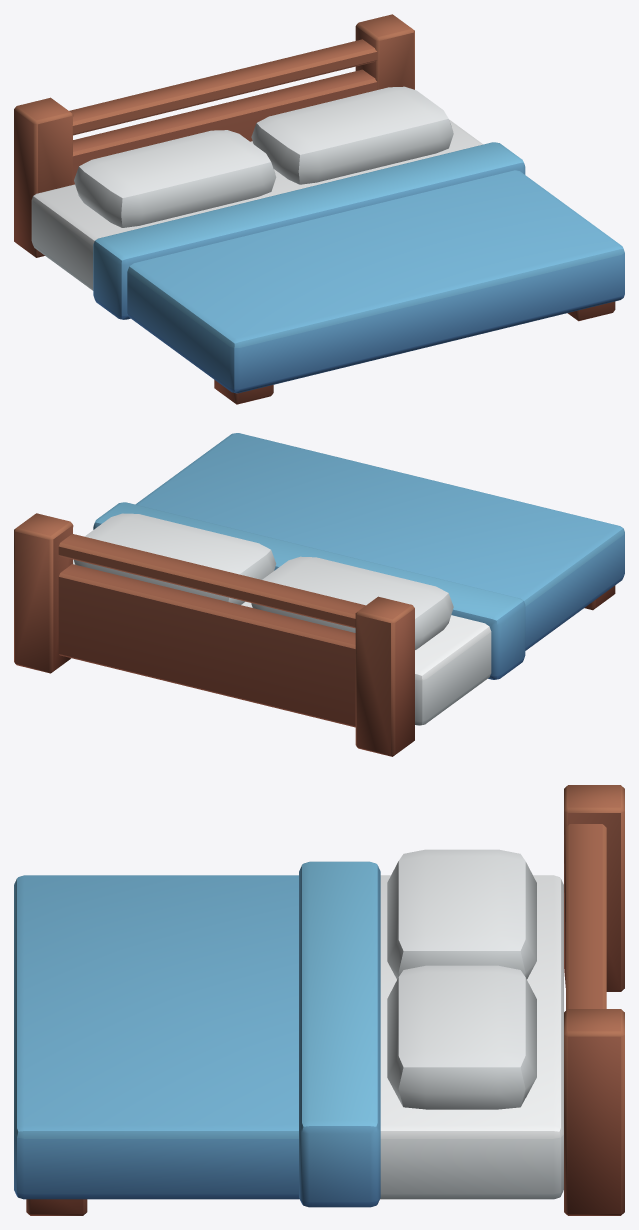
File: bed-double-a.glb
The picture shows the model from 3 angles, top to bottom: view 1: azimuth 30°, elevation 25°; view 2: azimuth 150°, elevation 25°; view 3: azimuth 270°, elevation 25°; orthographic projection. The views are drawn at different scales.
Parts seen in each view (by area): view 1: bed_double_A; view 2: bed_double_A; view 3: bed_double_A.
Boxes of the visible parts, <box> form: bed_double_A: <box>14,14,624,404</box>; bed_double_A: <box>14,433,624,756</box>; bed_double_A: <box>14,785,624,1215</box>.
Size of the model in its own units: 3.1 by 1 by 3.
